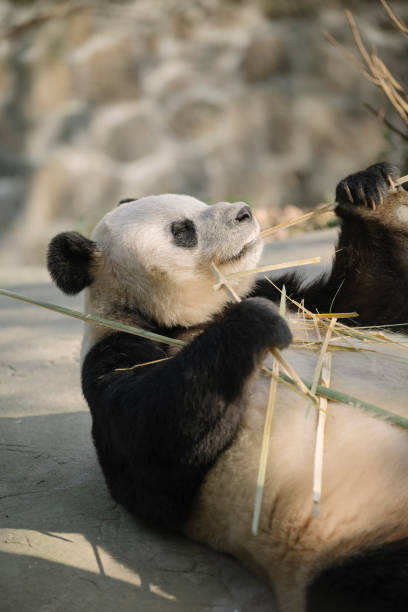panda: (37, 162, 295, 361)
